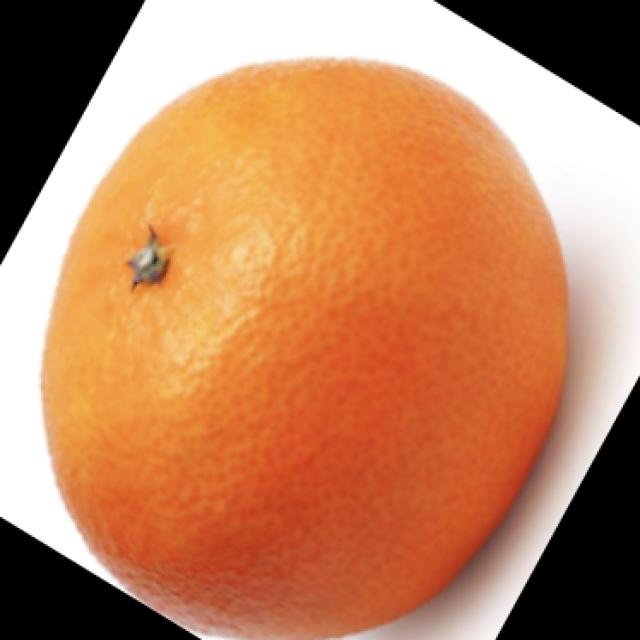matang: (39, 59, 574, 640)
